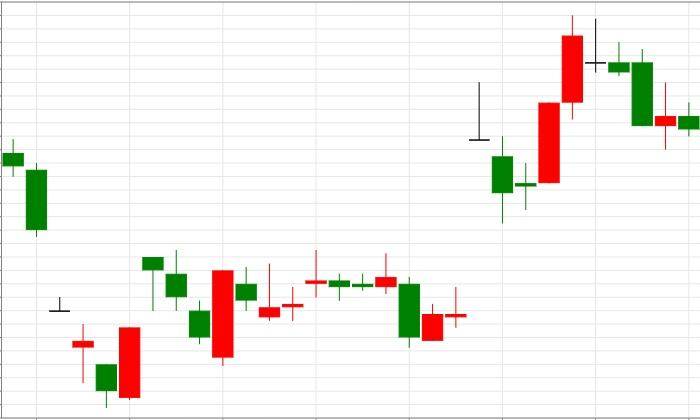hanging_man_fall: (96, 256, 164, 408)
three_black_crows_fall: (95, 250, 211, 408)
